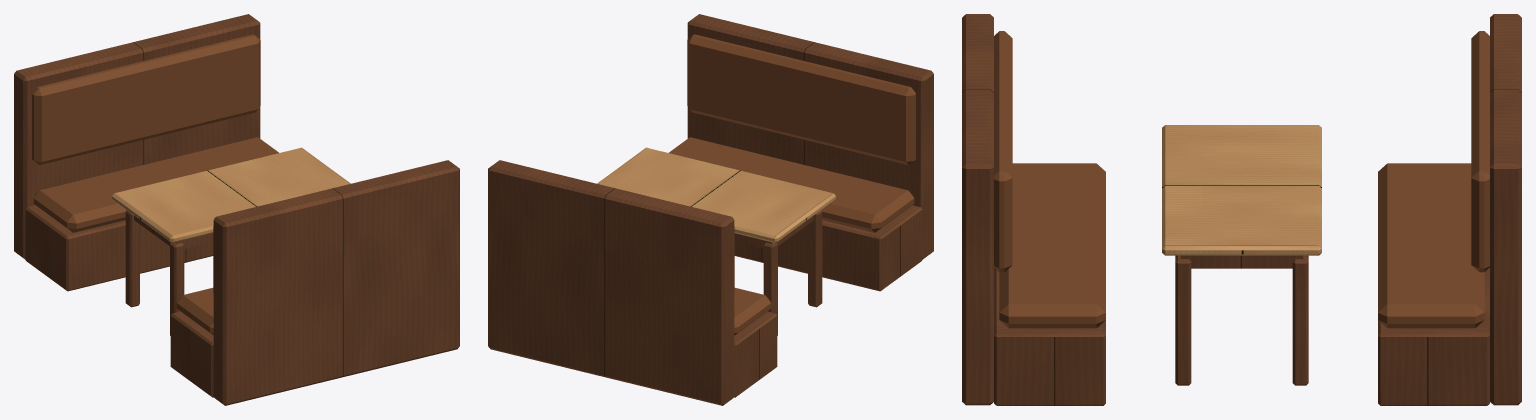
Rendered from set-booth.glb.
The picture shows the model from 3 angles, left to right: view 1: azimuth 30°, elevation 25°; view 2: azimuth 150°, elevation 25°; view 3: azimuth 270°, elevation 25°; orthographic projection. The views are drawn at different scales.
Parts seen in each view (by area): view 1: set_booth; view 2: set_booth; view 3: set_booth.
Boxes of the visible parts, <box> form: set_booth: <box>14,14,459,405</box>; set_booth: <box>488,14,933,405</box>; set_booth: <box>962,14,1521,405</box>.
Bounding box in the file's own units: 1.36 × 1 × 2.1.
3 materials, 2 textured.
